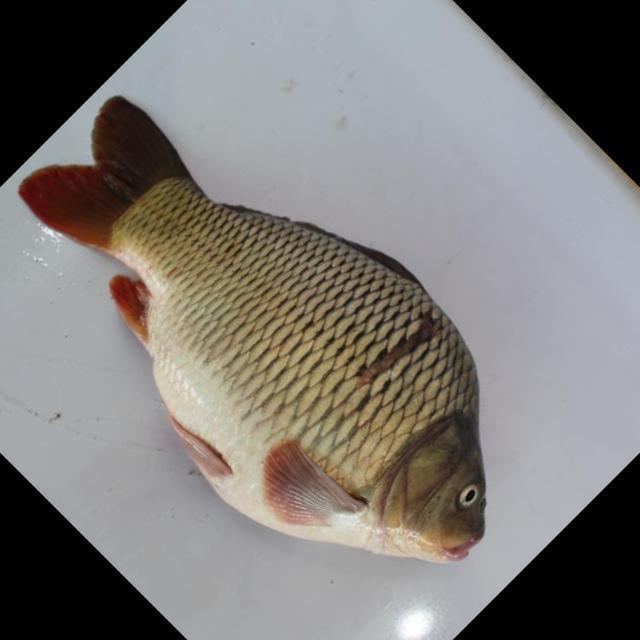CommonCarp: (24, 89, 512, 572)
